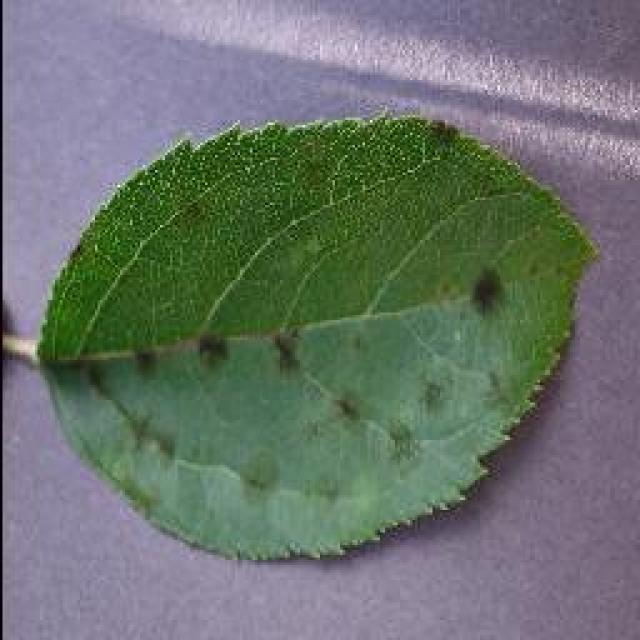apple scab disease: (25, 110, 600, 562)
